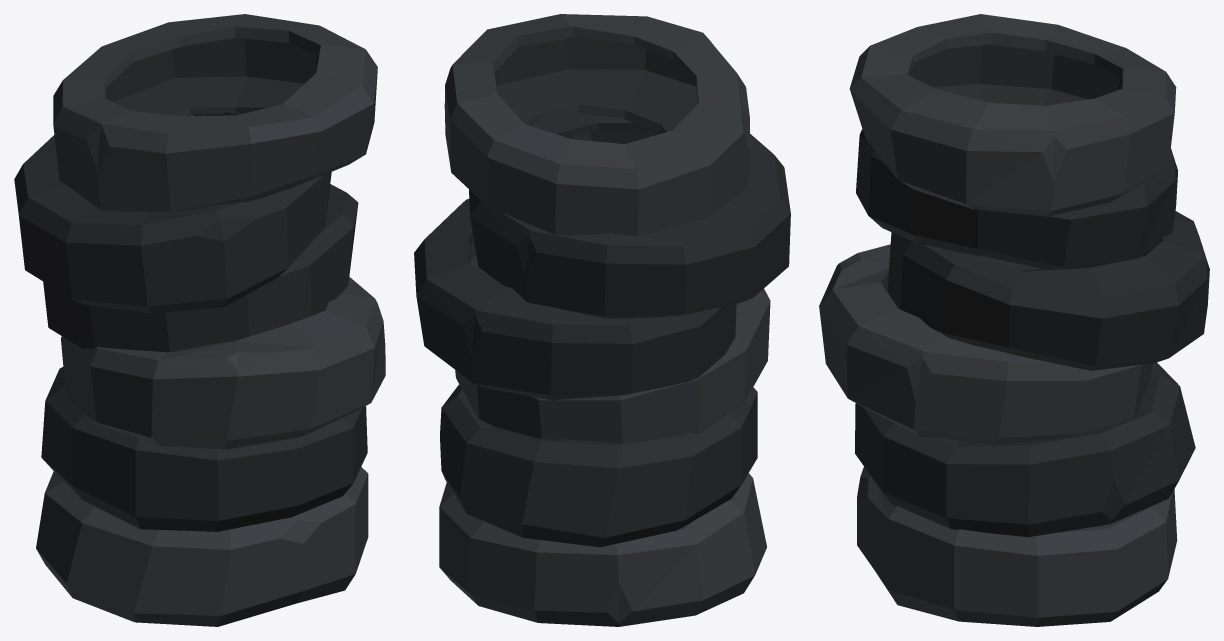
The model's file is SM_Prop_TyreStack_01.fbx.
The picture shows the model from 3 angles, left to right: view 1: azimuth 30°, elevation 25°; view 2: azimuth 150°, elevation 25°; view 3: azimuth 270°, elevation 25°; orthographic projection. The views are drawn at different scales.
Visible parts, largest first — view 1: SM_Prop_TyreStack_01; view 2: SM_Prop_TyreStack_01; view 3: SM_Prop_TyreStack_01.
Part boxes in pixels (<box>): SM_Prop_TyreStack_01: <box>14,14,385,626</box>; SM_Prop_TyreStack_01: <box>414,14,790,626</box>; SM_Prop_TyreStack_01: <box>819,14,1209,626</box>.
Size of the model in its own units: 82.24 by 125 by 86.09.
